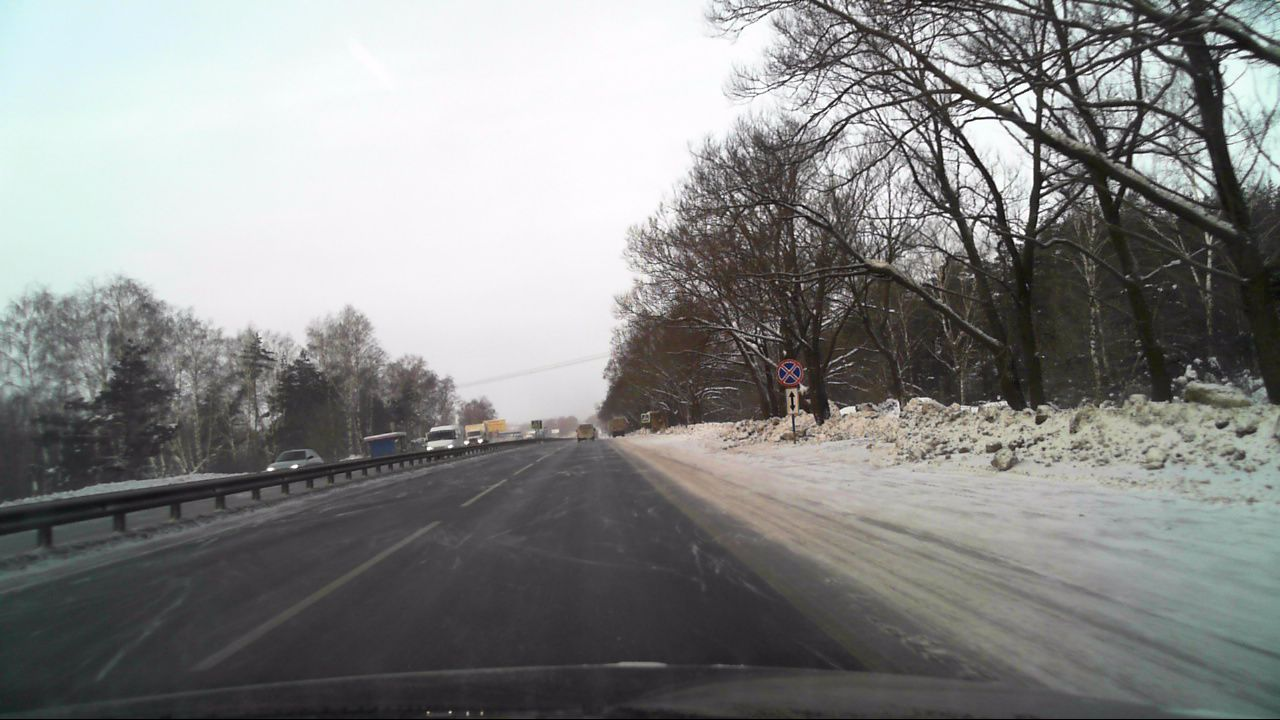No Parking: (776, 358, 804, 386)
